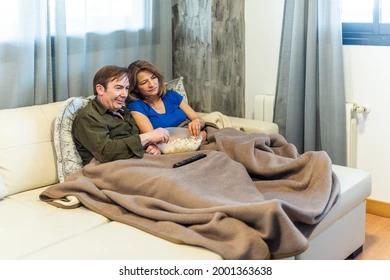blanket: (37, 119, 342, 260)
long sleeve shirt: (71, 98, 144, 168)
